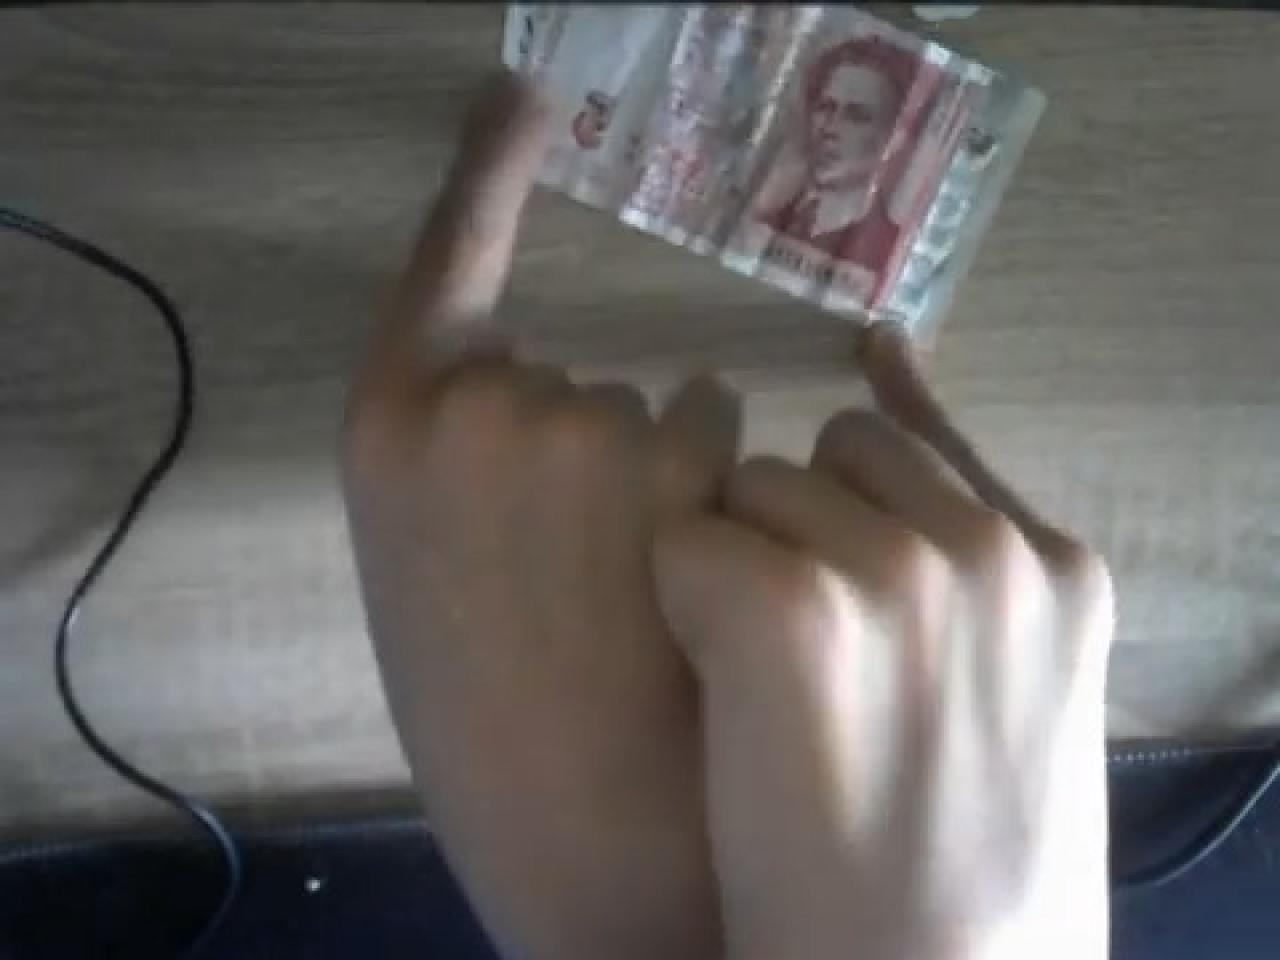5leva: (496, 3, 1050, 355)
